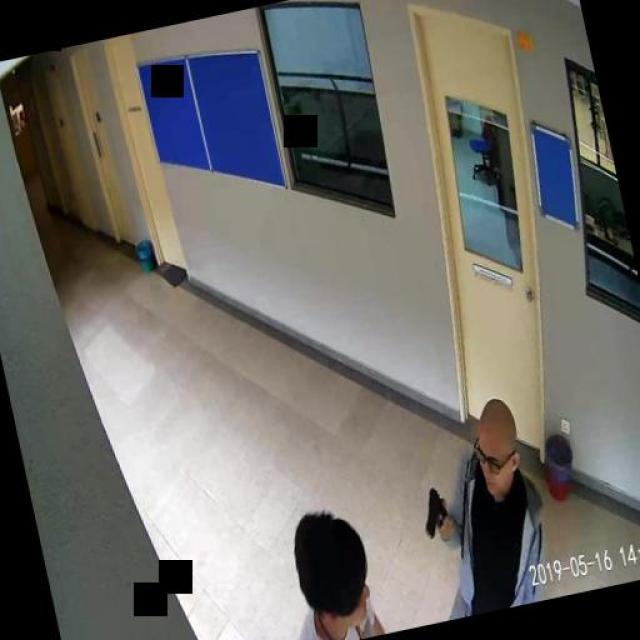gun: (415, 482, 451, 538)
